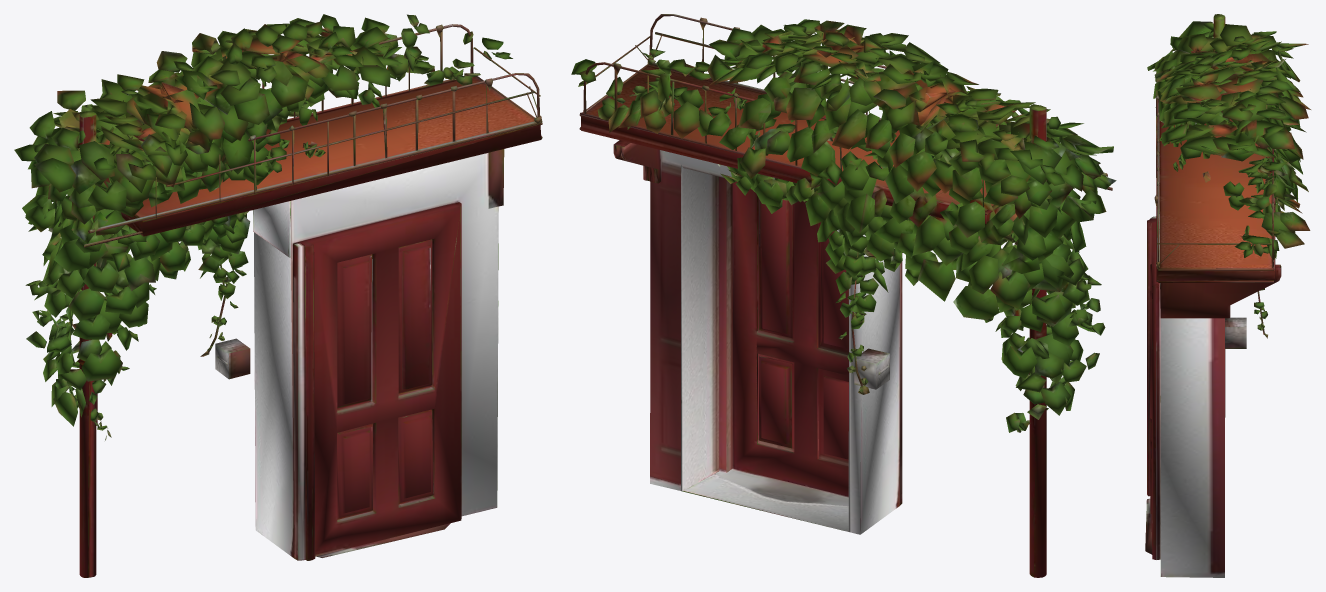
The model's file is house_wall_grapevine.glb.
3 renders of one model, left to right at view 1: azimuth 30°, elevation 25°; view 2: azimuth 150°, elevation 25°; view 3: azimuth 270°, elevation 25°, orthographic. The views are drawn at different scales.
Size of the model in its own units: 0.9302 by 0.8614 by 0.3072.
Materials: 1 (1 with a texture image).
